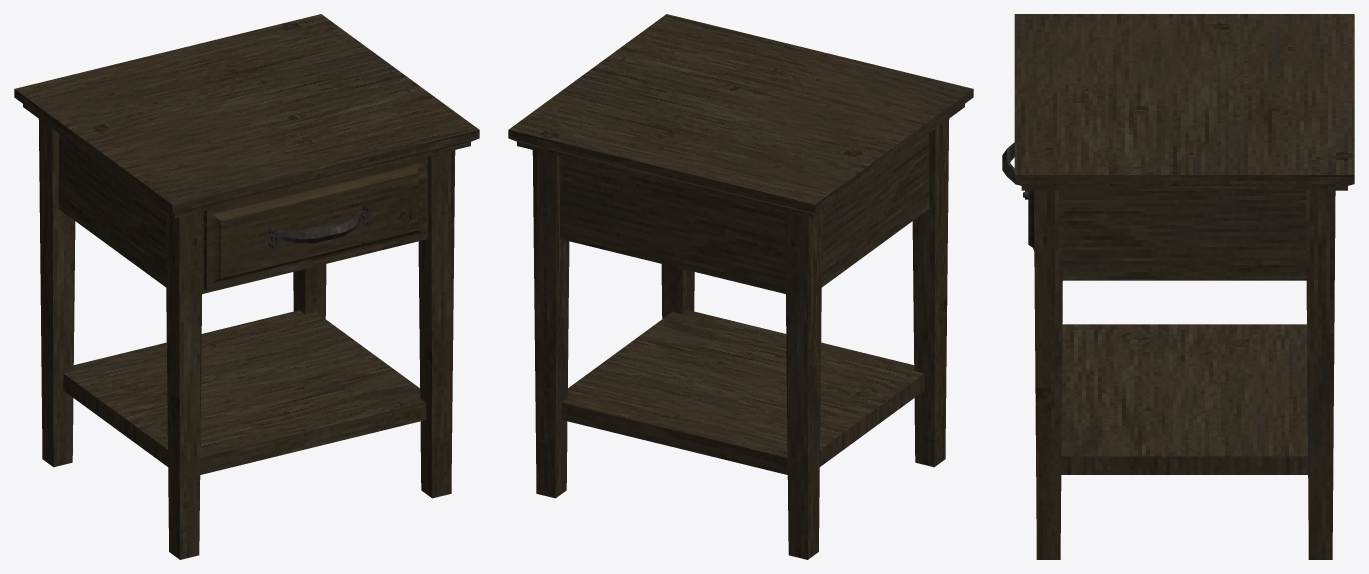
File: bedside_table_1_4.glb
The picture shows the model from 3 angles, left to right: view 1: azimuth 30°, elevation 25°; view 2: azimuth 150°, elevation 25°; view 3: azimuth 270°, elevation 25°; orthographic projection. The views are drawn at different scales.
Parts seen in each view (by area): view 1: bedside_table_1_4, bedside_table_1_4_drawer; view 2: bedside_table_1_4; view 3: bedside_table_1_4, bedside_table_1_4_drawer.
Boxes of the visible parts, left/top/right/bottom form: bedside_table_1_4: left=14, top=14, right=479, bottom=559; bedside_table_1_4_drawer: left=203, top=157, right=426, bottom=290; bedside_table_1_4: left=508, top=14, right=973, bottom=559; bedside_table_1_4: left=1014, top=14, right=1354, bottom=559; bedside_table_1_4_drawer: left=1002, top=142, right=1034, bottom=250.
Bounding box in the file's own units: 0.56 × 0.64 × 0.5183.
2 materials, 2 textured.
